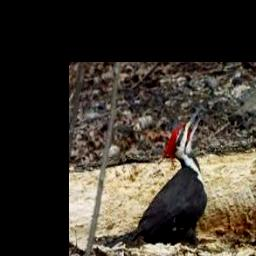Woodpecker: (104, 109, 208, 248)
